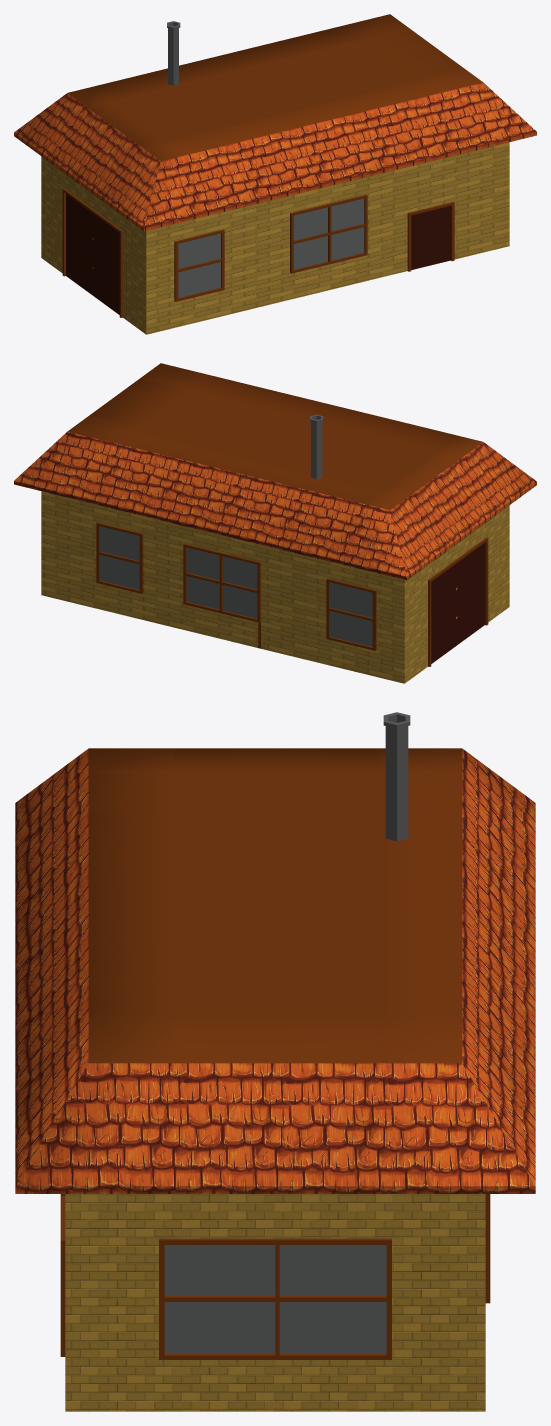
The model's file is House03.fbx.
The picture shows the model from 3 angles, top to bottom: view 1: azimuth 30°, elevation 25°; view 2: azimuth 150°, elevation 25°; view 3: azimuth 270°, elevation 25°; orthographic projection. The views are drawn at different scales.
Parts seen in each view (by area): view 1: House03, House03_Chimney; view 2: House03, House03_Chimney; view 3: House03, House03_Chimney.
Part boxes in pixels (x1,y1,x2,y2): House03: (14, 14, 536, 334); House03_Chimney: (167, 21, 180, 85); House03: (14, 363, 536, 683); House03_Chimney: (310, 414, 323, 478); House03: (15, 748, 535, 1411); House03_Chimney: (383, 712, 410, 841).
Bounding box in the file's own units: 310 × 168 × 178.
6 materials, 2 textured.
